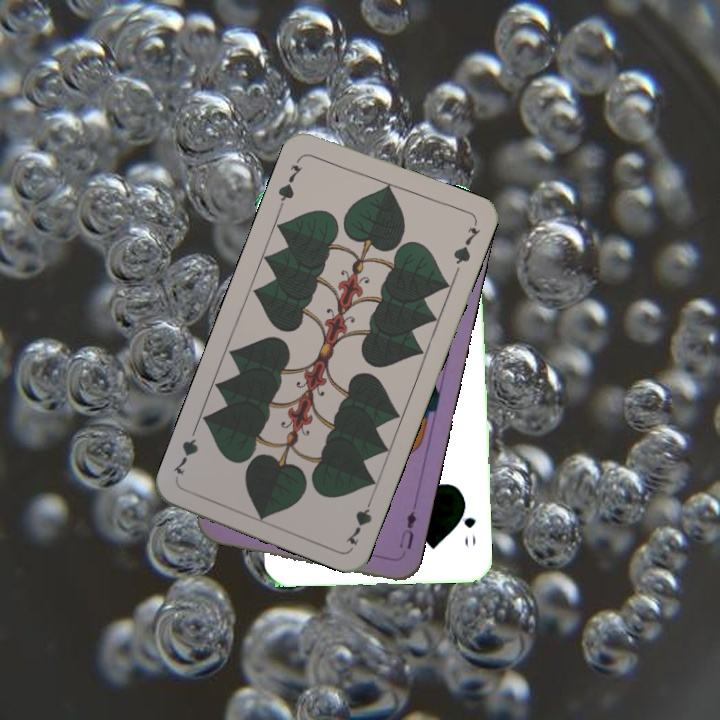EU: (395, 507, 419, 552)
G7: (341, 491, 376, 548), (273, 153, 306, 210)
GO: (456, 497, 479, 549)
